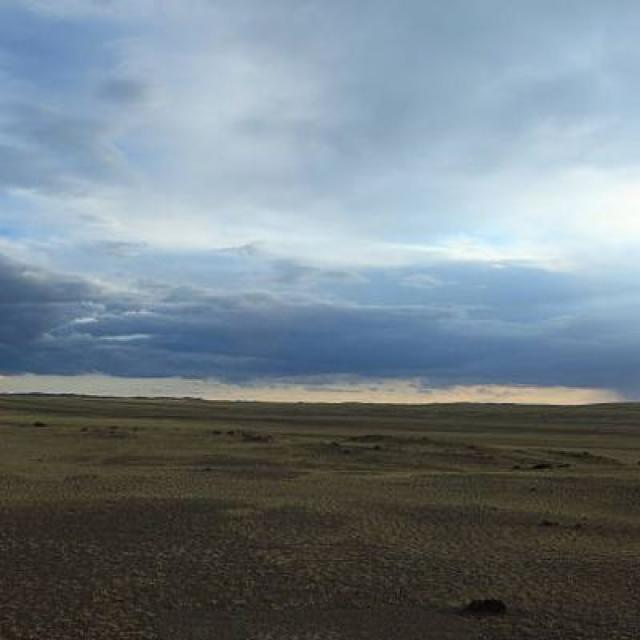Ns: (1, 235, 639, 397)
